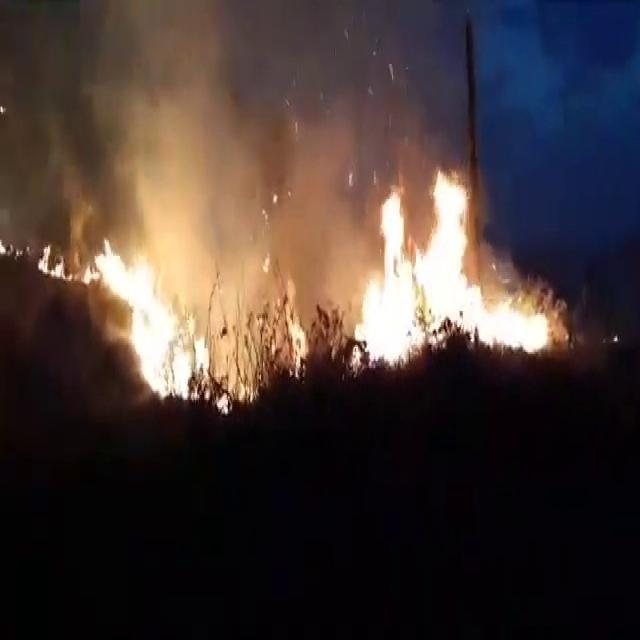Fire: (350, 175, 546, 372), (88, 247, 215, 413), (4, 230, 68, 285)
Smoke: (0, 0, 377, 269)
